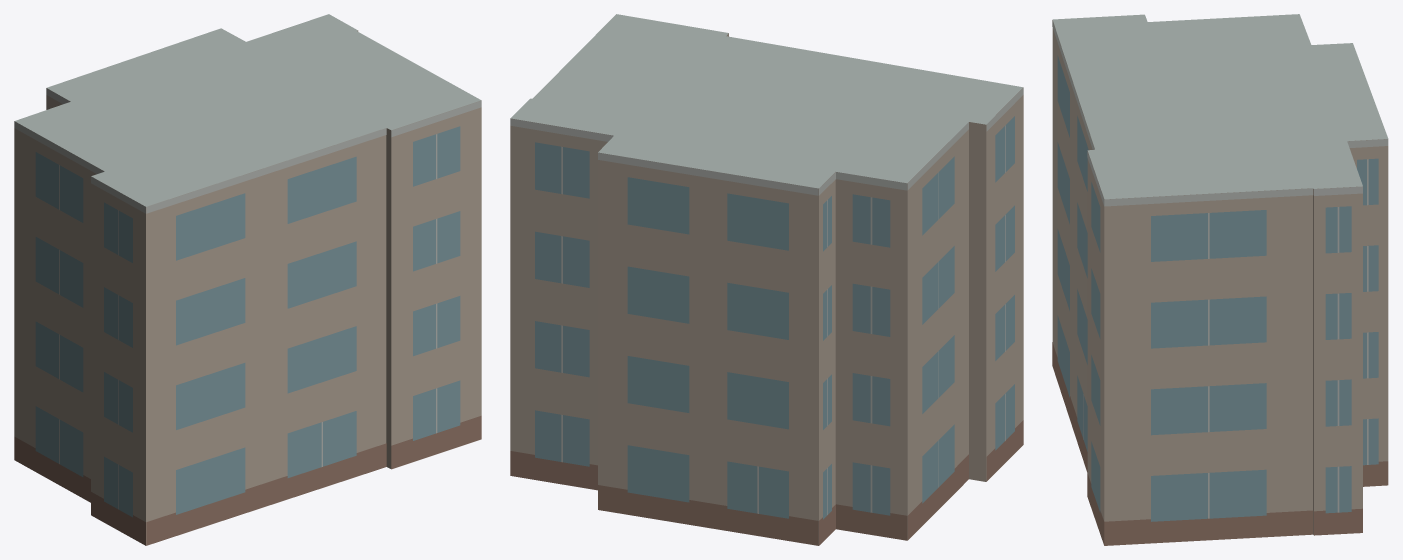
Rendered from survey-upis-32660698.glb.
3 views of the same model, side by side, from view 1: azimuth 30°, elevation 25°; view 2: azimuth 150°, elevation 25°; view 3: azimuth 270°, elevation 25° (orthographic). The views are drawn at different scales.
Visible parts, largest first — view 1: survey-upis-32660698.tmp; view 2: survey-upis-32660698.tmp; view 3: survey-upis-32660698.tmp.
Part boxes in pixels (x1,y1,x2,y2): survey-upis-32660698.tmp: (14,14,481,545); survey-upis-32660698.tmp: (510,14,1023,545); survey-upis-32660698.tmp: (1052,14,1388,545).
Size of the model in its own units: 13.67 by 11.9 by 10.47.
